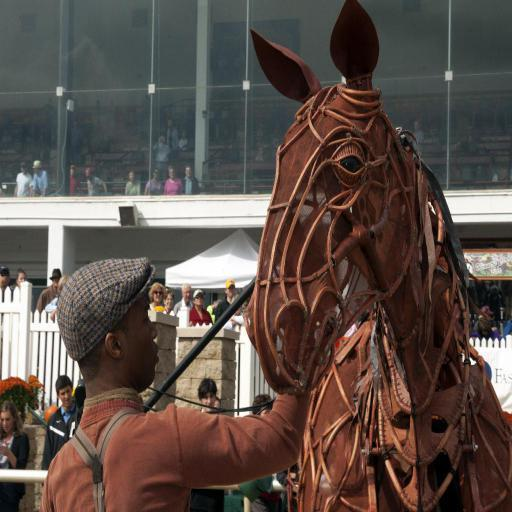horse: (236, 0, 512, 512)
